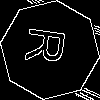R: (25, 25, 75, 68)
